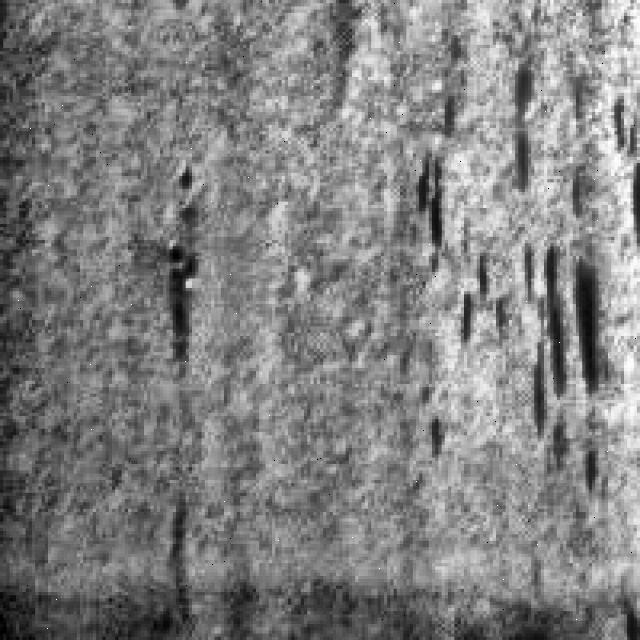Patches: (515, 227, 611, 474), (153, 163, 214, 362), (406, 128, 464, 278)
